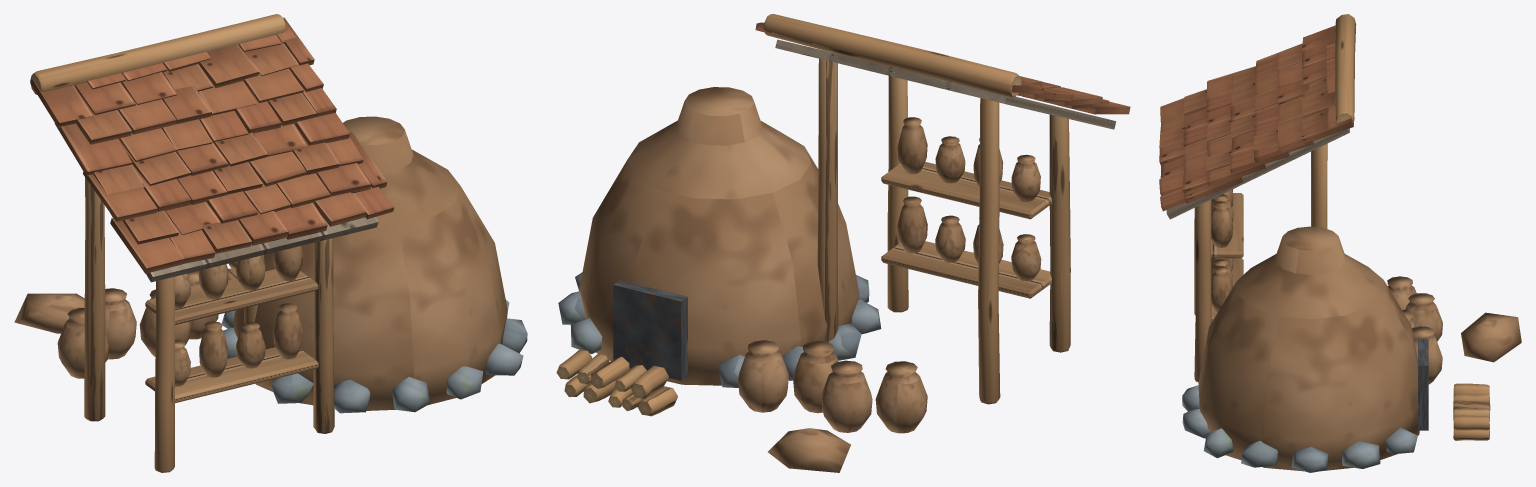
Rendered from bw_pottery_kiln.fbx.
3 renders of one model, left to right at view 1: azimuth 30°, elevation 25°; view 2: azimuth 150°, elevation 25°; view 3: azimuth 270°, elevation 25°, orthographic. The views are drawn at different scales.
Parts seen in each view (by area): view 1: bw_pottery_kiln; view 2: bw_pottery_kiln; view 3: bw_pottery_kiln.
Boxes of the visible parts, x1,y1,x2,y2 form: bw_pottery_kiln: (14, 14, 527, 472); bw_pottery_kiln: (556, 14, 1130, 472); bw_pottery_kiln: (1159, 14, 1521, 472).
Size of the model in its own units: 2.42 by 1.78 by 2.03.
